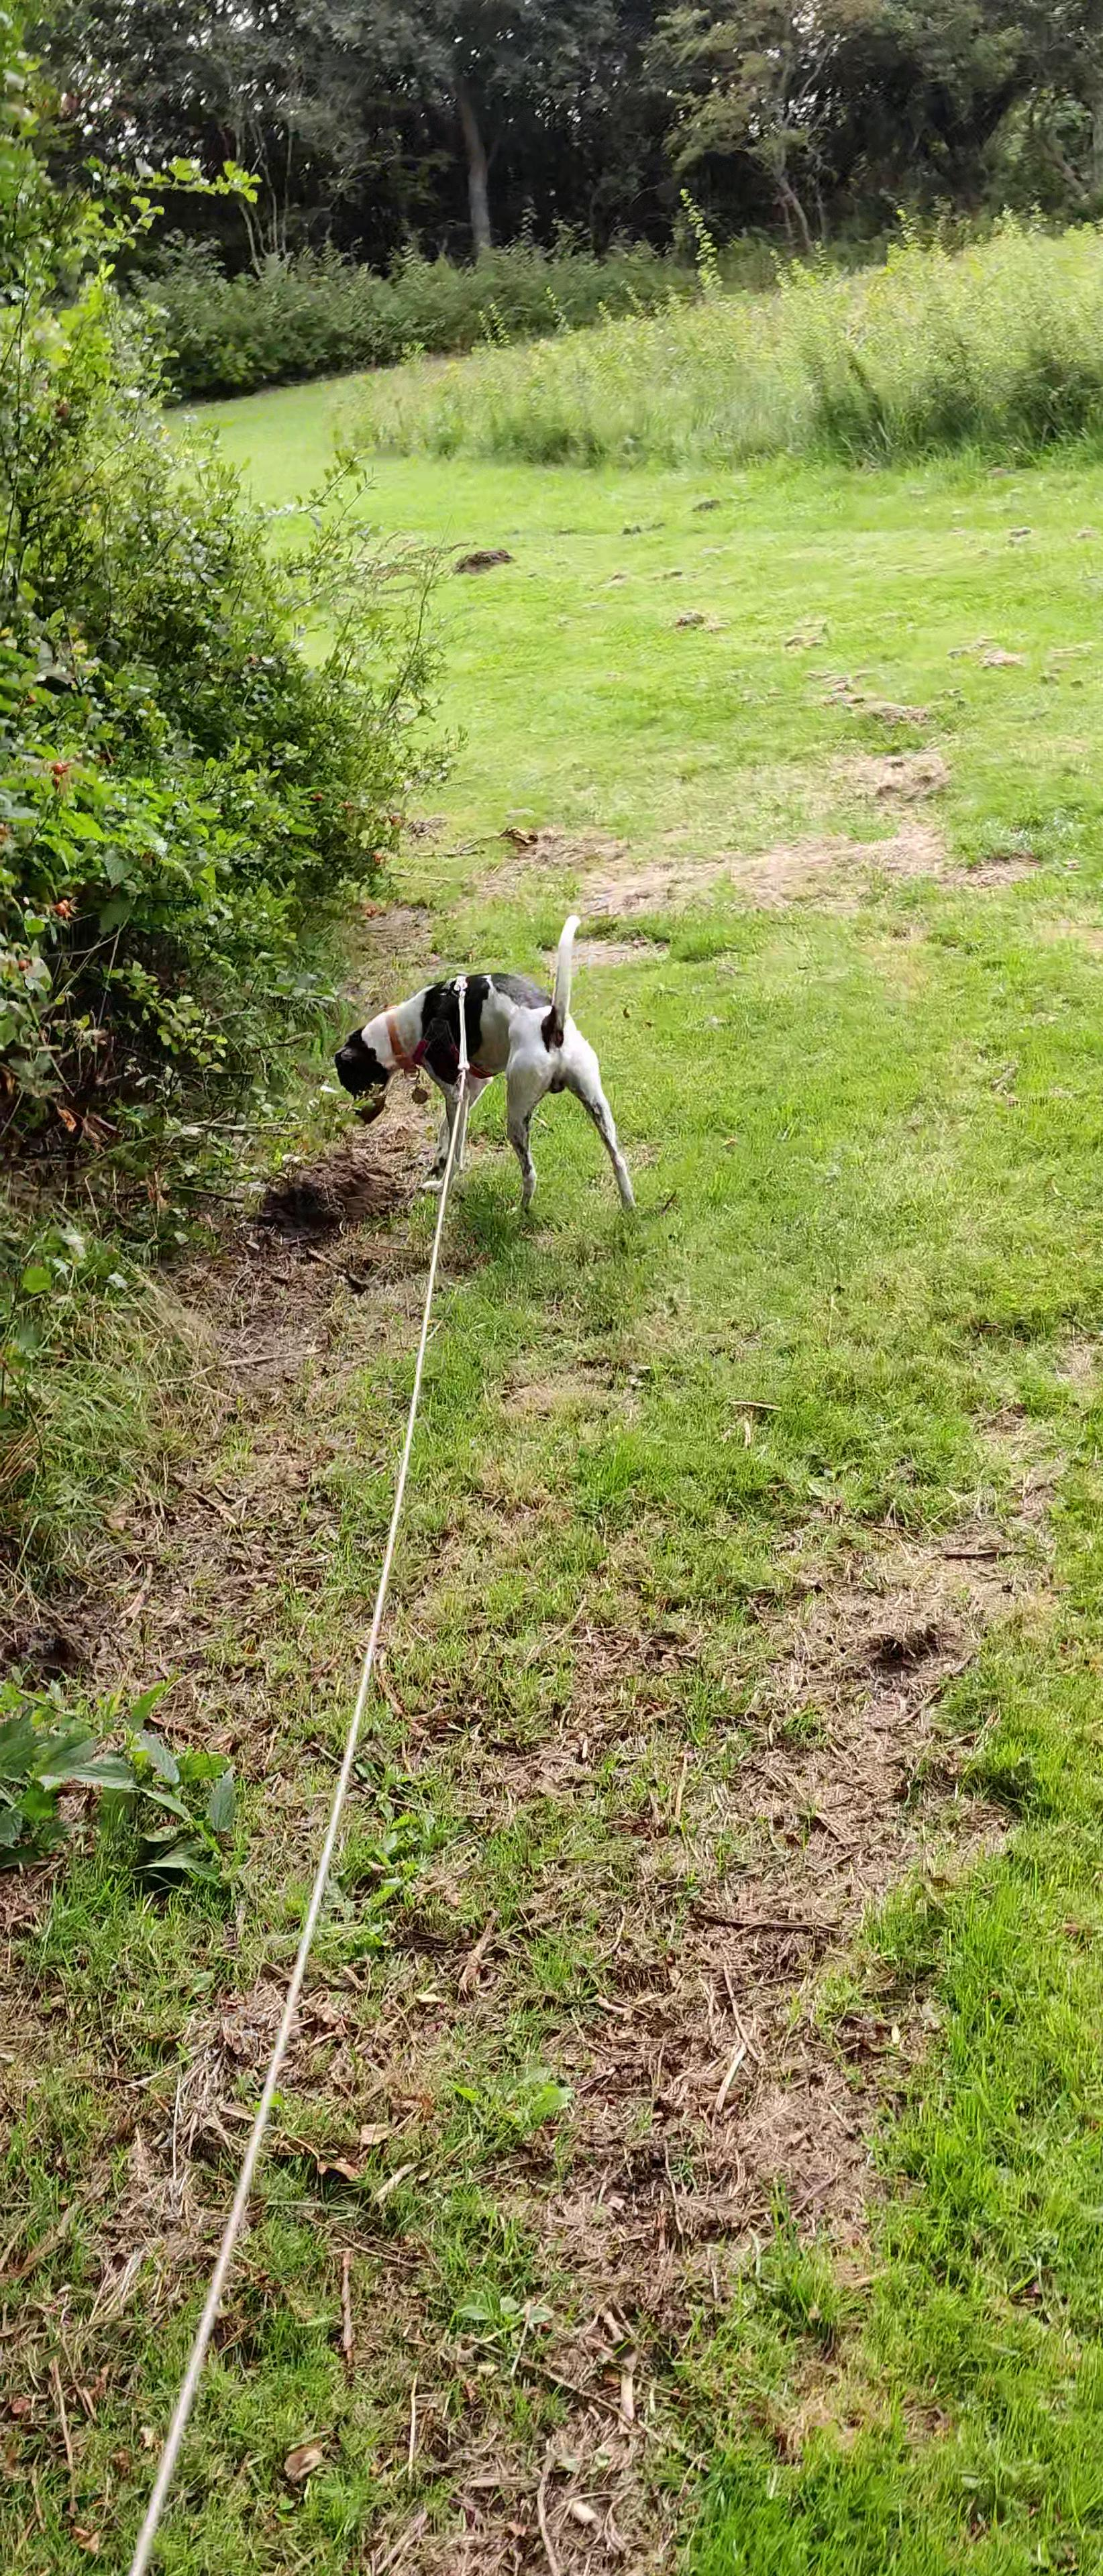Dog: (317, 892, 654, 1230)
